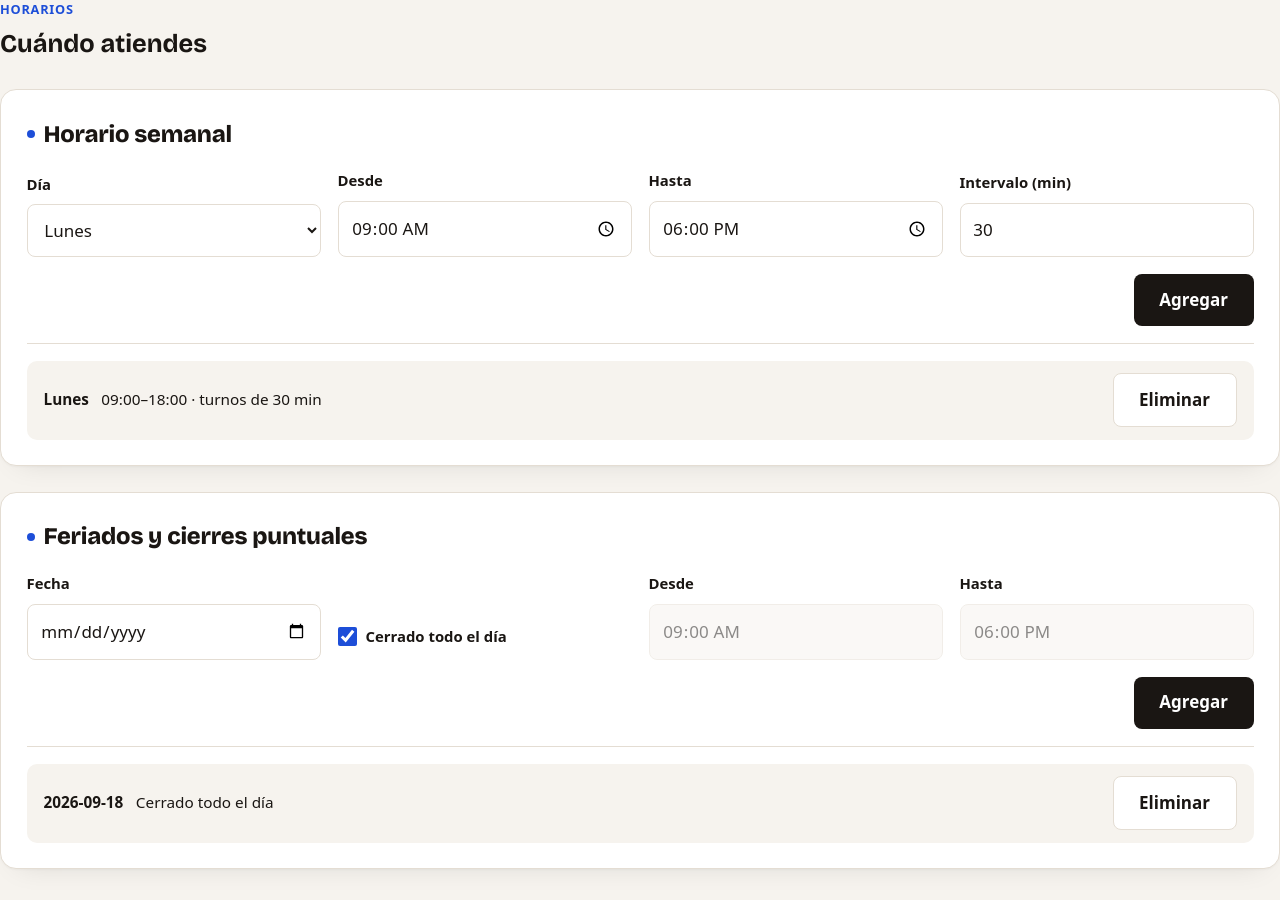
it: AvailabilityPageComponent › muestra el 409 de solapamiento que devuelve el backend
Click the submit button at [1194, 300], box [1134,274,1254,326]
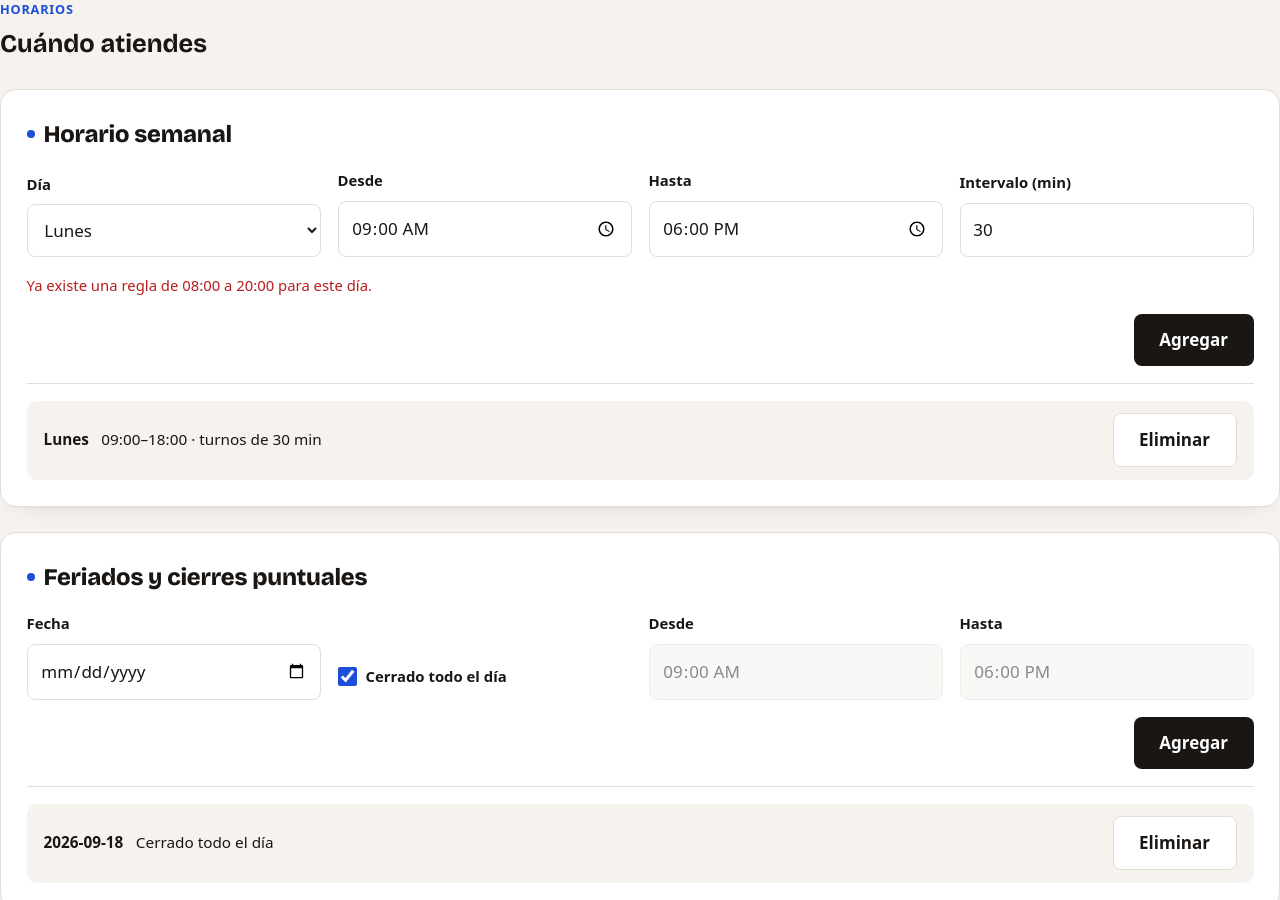
Now the text "Ya existe una regla de 08:00 a 20:00" is shown, box [26,275,372,295]
